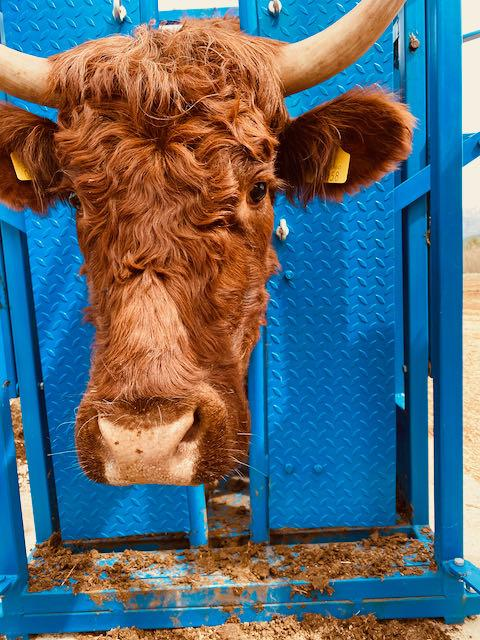muzzles: (64, 403, 261, 495)
